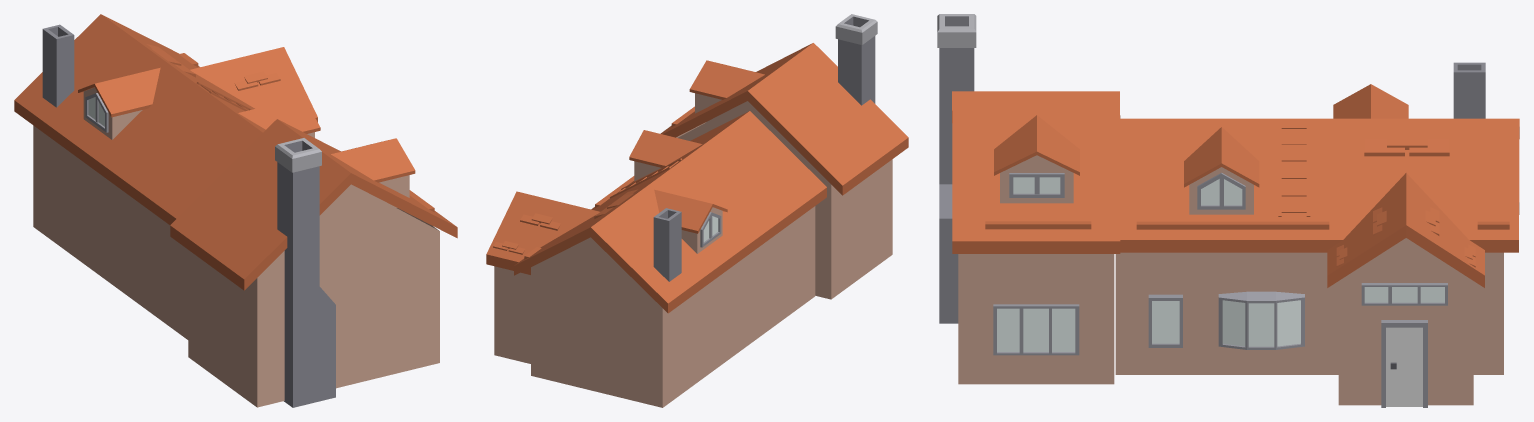
3 renders of one model, left to right at view 1: azimuth 30°, elevation 25°; view 2: azimuth 150°, elevation 25°; view 3: azimuth 270°, elevation 25°, orthographic. The views are drawn at different scales.
Parts seen in each view (by area): view 1: test; view 2: test; view 3: test.
Part boxes in pixels (left/top/right/bottom): test: left=14, top=14, right=457, bottom=407; test: left=486, top=14, right=908, bottom=407; test: left=937, top=14, right=1519, bottom=407.
Bounding box in the file's own units: 1279 × 1280 × 2363.
